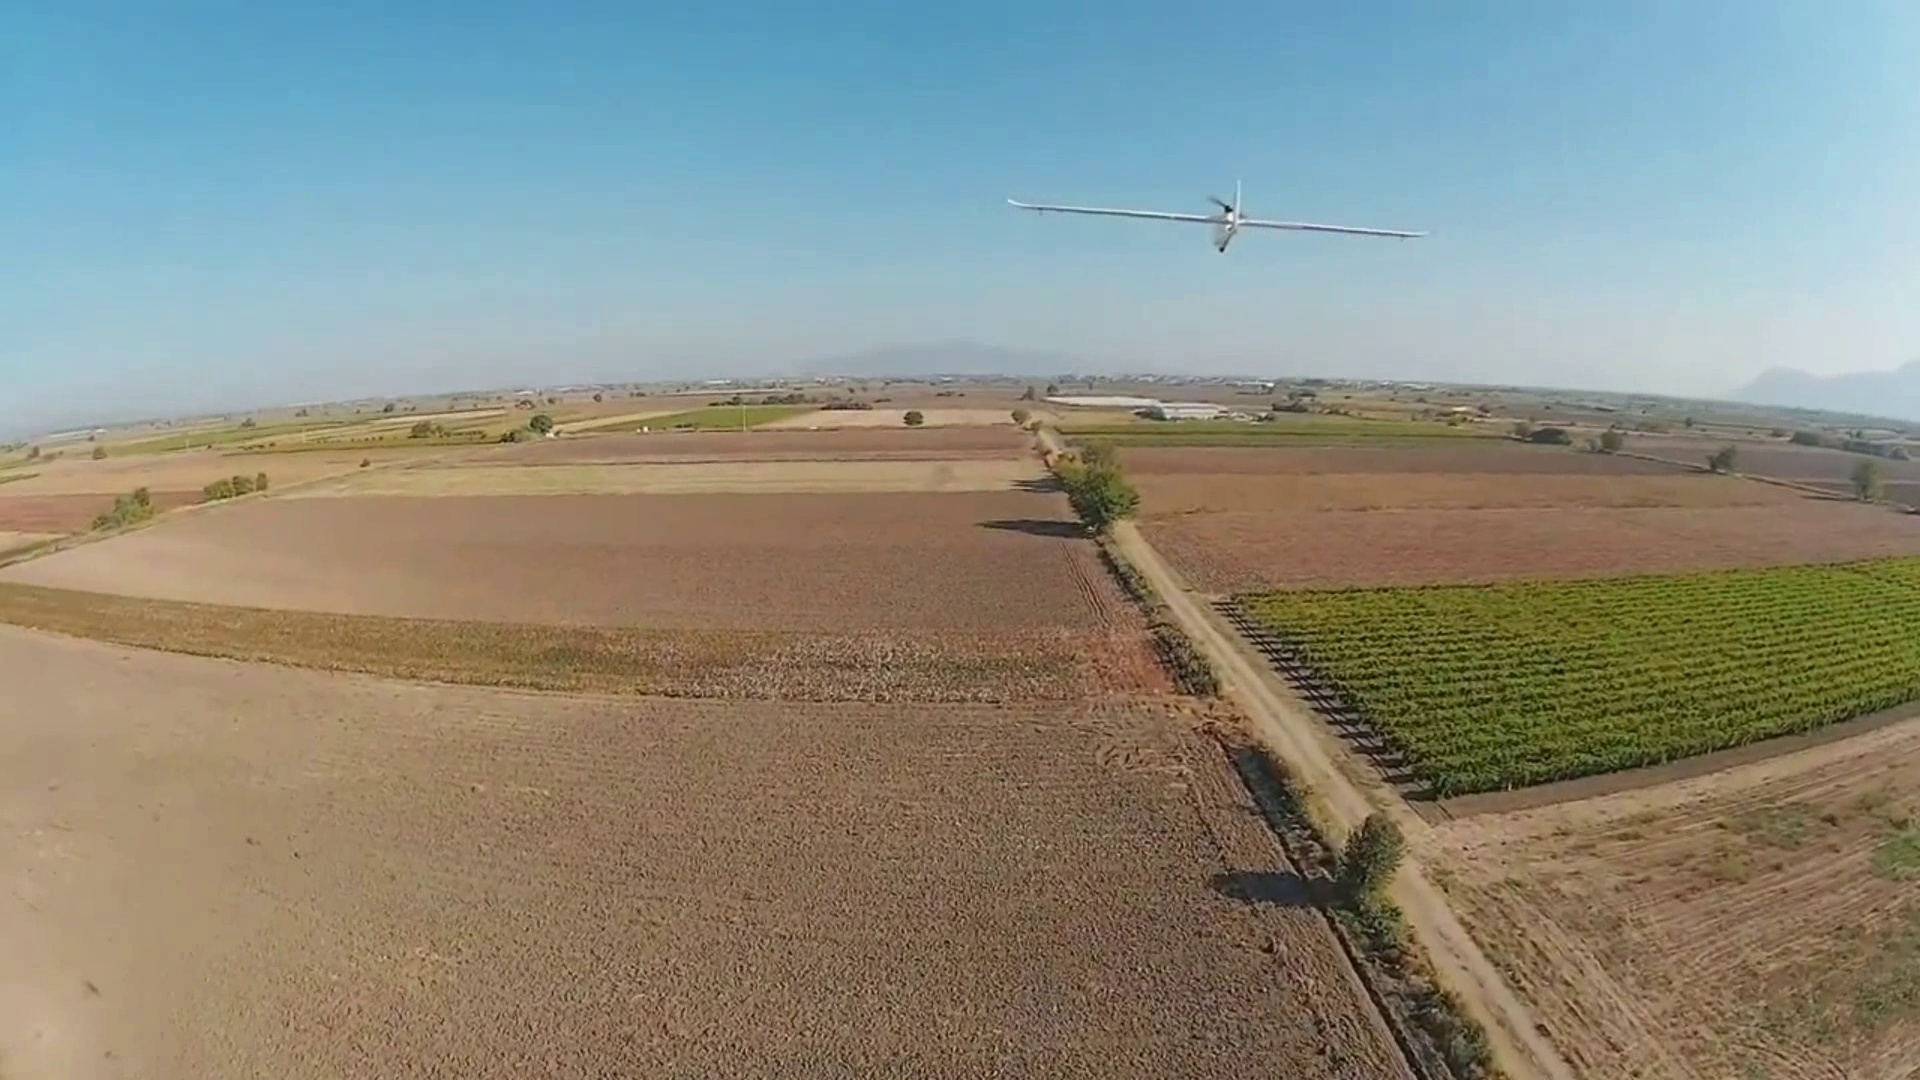airplane: (1007, 182, 1429, 251)
